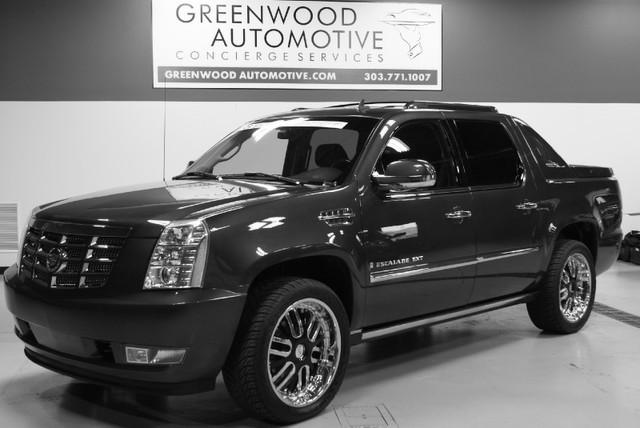car: (2, 98, 629, 426)
